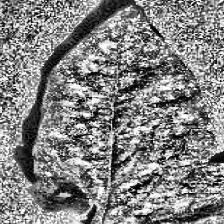spider mites: (32, 3, 224, 224)
